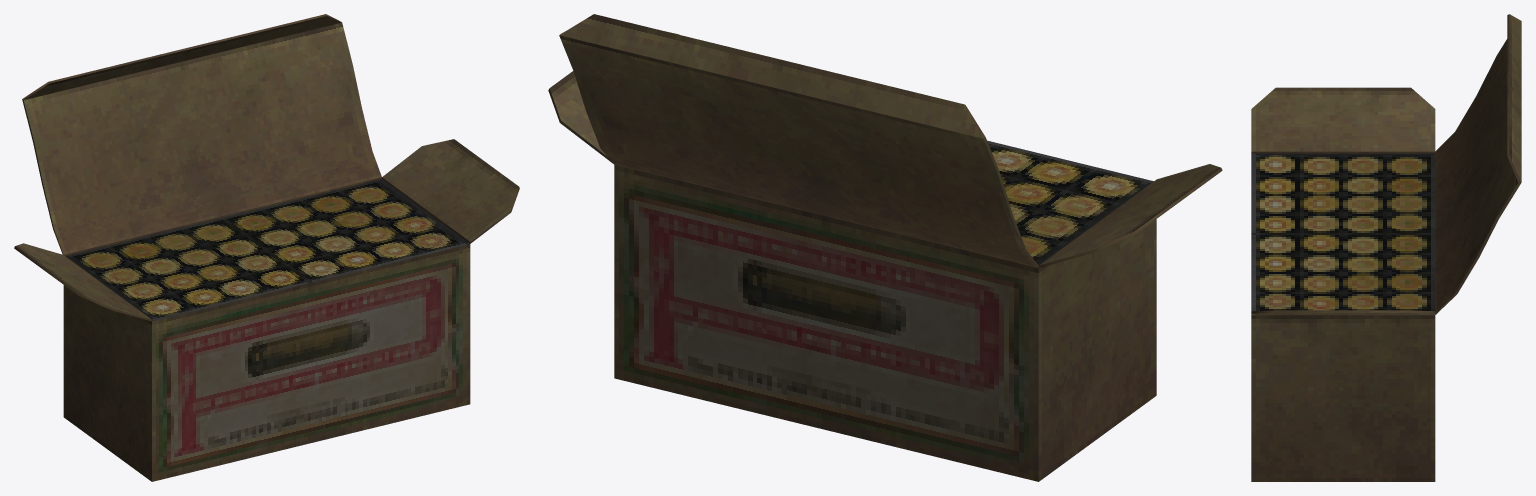
Rendered from ammo_box_mp_3.glb.
3 renders of one model, left to right at view 1: azimuth 30°, elevation 25°; view 2: azimuth 150°, elevation 25°; view 3: azimuth 270°, elevation 25°, orthographic. The views are drawn at different scales.
Parts seen in each view (by area): view 1: ammo_box_mp_3; view 2: ammo_box_mp_3; view 3: ammo_box_mp_3.
Boxes of the visible parts, x1,y1,x2,y2 form: ammo_box_mp_3: (14,14,519,481); ammo_box_mp_3: (548,14,1222,481); ammo_box_mp_3: (1251,14,1521,481).
Size of the model in its own units: 0.2159 by 0.1424 by 0.1101.
1 material, 1 textured.
